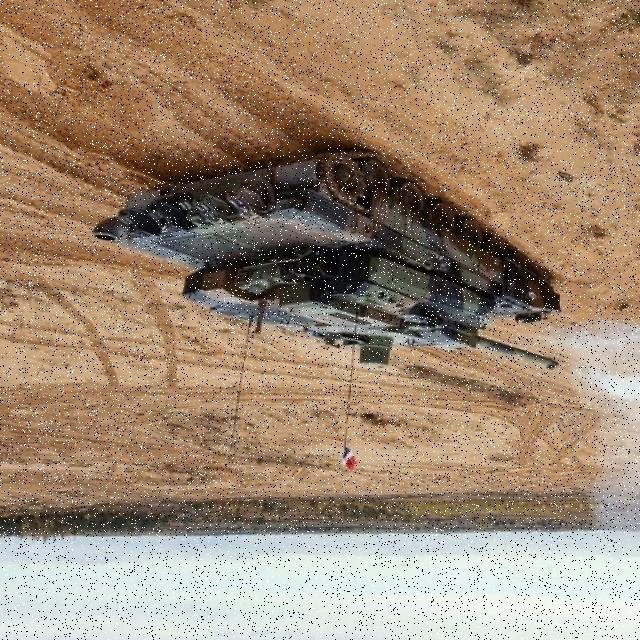MIL_MBT: (93, 147, 566, 377)
